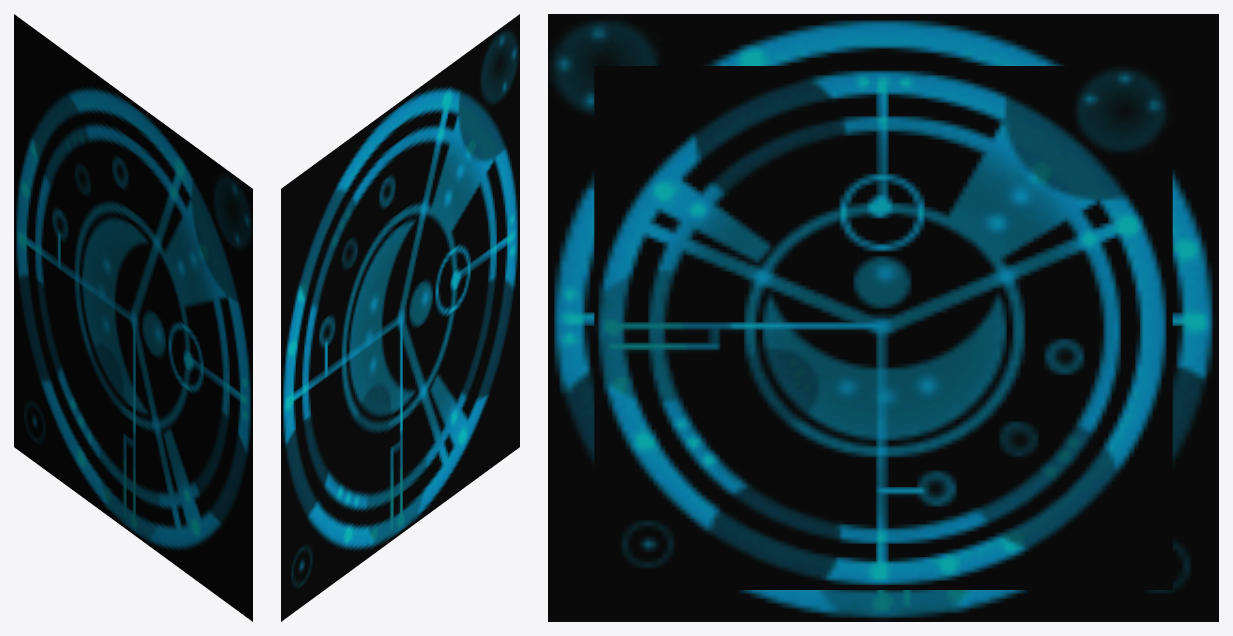
The model's file is guangpan_effect.fbx.
The picture shows the model from 3 angles, left to right: view 1: azimuth 30°, elevation 25°; view 2: azimuth 150°, elevation 25°; view 3: azimuth 270°, elevation 25°; orthographic projection. The views are drawn at different scales.
Visible parts, largest first — view 1: guangquan2; view 2: guangquan2; view 3: guangquan1, guangquan2.
Boxes of the visible parts, x1,y1,x2,y2 form: guangquan2: (14, 14, 252, 621); guangquan2: (281, 14, 519, 621); guangquan1: (594, 66, 1172, 589); guangquan2: (548, 14, 1218, 621).
Size of the model in its own units: 24.35 by 693 by 693.
